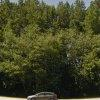Tree: (23, 5, 100, 79)
